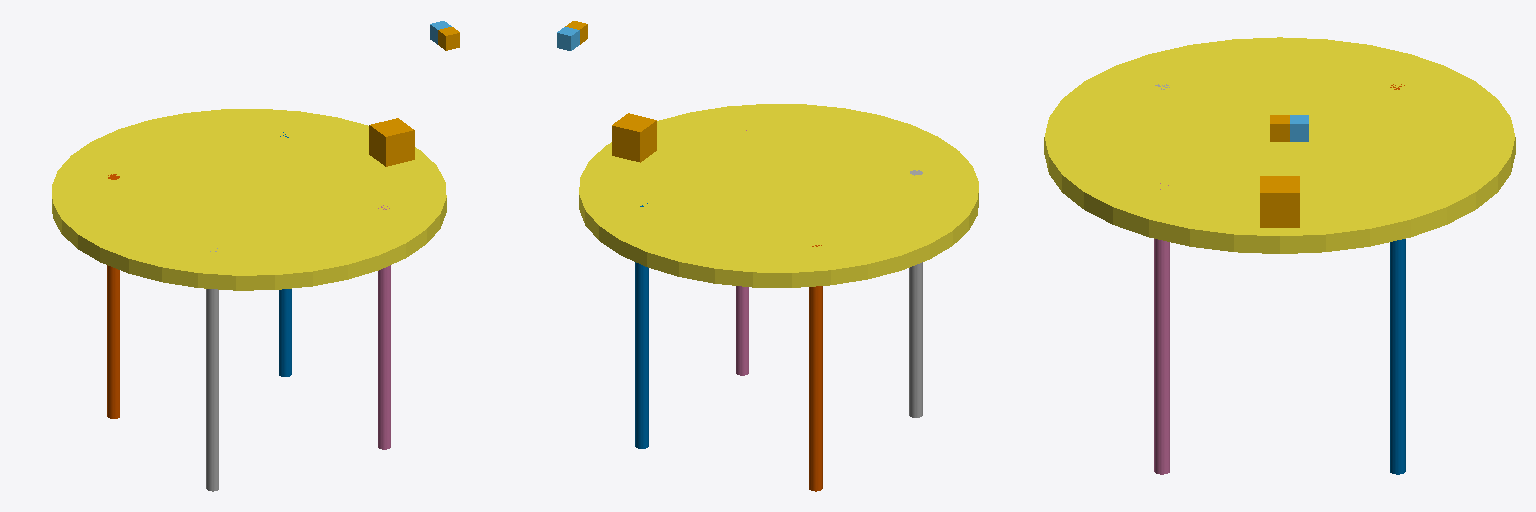
--- What the picture shows (computed from the rendered views, not written in the file) ---
The picture shows the robot from 3 angles, left to right: view 1: azimuth 30°, elevation 25°; view 2: azimuth 150°, elevation 25°; view 3: azimuth 270°, elevation 25°; orthographic projection.
Model kuka_kr4r600 with 17 links and 16 joints (6 revolute, 10 fixed), rooted at world, posed every joint at zero.
Links seen in each view (by area): view 1: table_top_link, leg4_link, leg3_link, leg2_link, box_link, leg1_link; view 2: table_top_link, leg2_link, leg1_link, leg4_link, box_link, leg3_link; view 3: table_top_link, leg3_link, leg1_link, box_link, camera_link.
Boxes of the visible links, x1,y1,x2,y2 form: table_top_link: (52,109,446,290); leg4_link: (206,248,218,491); leg3_link: (378,205,390,449); leg2_link: (107,174,119,418); box_link: (369,118,414,166); leg1_link: (279,132,291,376); table_top_link: (579,104,978,287); leg2_link: (809,245,822,491); leg1_link: (635,203,648,448); leg4_link: (909,170,922,417); box_link: (612,113,656,162); leg3_link: (736,130,748,375); table_top_link: (1044,37,1515,253); leg3_link: (1154,183,1169,474); leg1_link: (1390,239,1405,474); box_link: (1260,176,1299,227); camera_link: (1270,115,1289,141).
Bounding box of the posed robot: 1.32 × 1.2 × 1.18 m (x, y, z).
Meshes: 7 distinct files referenced, 0 mesh visuals loaded (none loaded); not drawn: 7 (reference not matched to a file when rendering).

The robot description file, URDF, robot "kuka_kr4r600":
<?xml version="1.0" ?>
<!-- =================================================================================== -->
<!-- |    This document was autogenerated by xacro from [local-path]/exparm_ws/src/kuka_lra_noetic/kuka_description/urdf/training_table.urdf.xacro | -->
<!-- |    EDITING THIS FILE BY HAND IS NOT RECOMMENDED                                 | -->
<!-- =================================================================================== -->
<!-- <robot name="kuka_kr4r600" xmlns:xacro="http://wiki.ros.org/xacro"> -->
<robot name="kuka_kr4r600" xmlns:body="http://playerstage.sourceforge.net/gazebo/xmlschema/#body" xmlns:controller="http://playerstage.sourceforge.net/gazebo/xmlschema/#controller" xmlns:gazebo="http://playerstage.sourceforge.net/gazebo/xmlschema/#gz" xmlns:geom="http://playerstage.sourceforge.net/gazebo/xmlschema/#geom" xmlns:interface="http://playerstage.sourceforge.net/gazebo/xmlschema/#interface" xmlns:joint="http://playerstage.sourceforge.net/gazebo/xmlschema/#joint" xmlns:model="http://playerstage.sourceforge.net/gazebo/xmlschema/#model" xmlns:physics="http://playerstage.sourceforge.net/gazebo/xmlschema/#physics" xmlns:renderable="http://playerstage.sourceforge.net/gazebo/xmlschema/#renderable" xmlns:rendering="http://playerstage.sourceforge.net/gazebo/xmlschema/#rendering" xmlns:sensor="http://playerstage.sourceforge.net/gazebo/xmlschema/#sensor" xmlns:xi="http://www.w3.org/2001/XInclude">
    <!-- <xacro:arg name="transmission_hw_interface" default="hardware_interface/PositionJointInterface"/> -->
    <!-- <xacro:include filename="$(find kuka_description)/urdf/common.gazebo.xacro" /> -->
    <!-- colours based on RAL values given in "FAQ - Colours of robot and robot
       controller", version "KUKA.Tifs | 2010-01-21 |YM| DefaultColorsRobotAndController.doc",
       downloaded 2015-07-18 from
       http://www.kuka.be/main/cservice/faqs/hardware/DefaultColorsRobotAndController.pdf

       all RAL colours converted using http://www.visual-graphics.de/en/customer-care/ral-colours
  -->
    <!-- Size of square 'camera' box -->
    <!-- <xacro:include filename="$(find kuka_description)/urdf/kuka.transmission.xacro" /> -->
    <!-- <xacro:include filename="$(find kuka_description)/urdf/kuka.gazebo.xacro" /> -->
    <!-- legal values:
     - hardware_interface/PositionJointInterface
     - hardware_interface/VelocityJointInterface
     - hardware_interface/EffortJointInterface
-->
    <!-- <xacro:macro name="kuka_kr4r600" params="prefix"> -->
    <link name="base_link">
        <inertial>
            <mass value="1" />
            <inertia ixx="1.0" ixy="0.0" ixz="0.0" iyy="1.0" iyz="0.0" izz="1.0" />
            <origin xyz="0 0 0" rpy="0 0 0" />
        </inertial>
        <visual>
            <origin rpy="0 0 0" xyz="0 0 0" />
            <geometry>
                <mesh filename="package://kuka_kr4_support/meshes/kr4r600/visual/base_link.stl" />
            </geometry>
            <material name="">
                <color rgba="0.5058823529411764 0.47058823529411764 0.38823529411764707 1.0" />
            </material>
        </visual>
        <collision>
            <origin rpy="0 0 0" xyz="0 0 0" />
            <geometry>
                <mesh filename="package://kuka_kr4_support/meshes/kr4r600/collision/base_link.stl" />
            </geometry>
        </collision>
        <inertial>
            <origin rpy="0 0 0" xyz="0 0 0" />
            <mass value="7" />
            <inertia ixx="30160574464.000000" ixy="268355824.000000" ixz="396794944.000000" iyy="49449443328.00000" iyz="74363816.000000" izz="47570612224.000000" />
        </inertial>
    </link>
    <link name="link_1">
        <inertial>
            <mass value="1" />
            <inertia ixx="1.0" ixy="0.0" ixz="0.0" iyy="1.0" iyz="0.0" izz="1.0" />
            <origin xyz="0 0 0" rpy="0 0 0" />
        </inertial>
        <visual>
            <origin rpy="0 0 0" xyz="0 0 0" />
            <geometry>
                <mesh filename="package://kuka_kr4_support/meshes/kr4r600/visual/link_1.stl" />
            </geometry>
            <material name="">
                <color rgba="0.9450980392156862 0.9254901960784314 1.0 1.0" />
            </material>
        </visual>
        <collision>
            <origin rpy="0 0 0" xyz="0 0 0" />
            <geometry>
                <mesh filename="package://kuka_kr4_support/meshes/kr4r600/collision/link_1.stl" />
            </geometry>
        </collision>
        <inertial>
            <origin rpy="0 0 0" xyz="0 0 0" />
            <mass value="5" />
            <inertia ixx="29069639680.000000" ixy="16955148.000000" ixz="-75115704.000000" iyy="18764271616.000000" iyz="180538688.000000" izz="20780234752.000000" />
        </inertial>
    </link>
    <link name="link_2">
        <inertial>
            <mass value="1" />
            <inertia ixx="1.0" ixy="0.0" ixz="0.0" iyy="1.0" iyz="0.0" izz="1.0" />
            <origin xyz="0 0 0" rpy="0 0 0" />
        </inertial>
        <visual>
            <origin rpy="0 0 0" xyz="0 0 0" />
            <geometry>
                <mesh filename="package://kuka_kr4_support/meshes/kr4r600/visual/link_2.stl" />
            </geometry>
            <material name="">
                <color rgba="0.9450980392156862 0.9254901960784314 1.0 1.0" />
            </material>
        </visual>
        <collision>
            <origin rpy="0 0 0" xyz="0 0 0" />
            <geometry>
                <mesh filename="package://kuka_kr4_support/meshes/kr4r600/collision/link_2.stl" />
            </geometry>
        </collision>
        <inertial>
            <origin rpy="0 0 0" xyz="0 0 0" />
            <mass value="6" />
            <inertia ixx="17074209792.000000" ixy="568627456.000000" ixz="-1012415616.000000" iyy="54759739392.000000" iyz="2741744.250000" izz="62598627328.000000" />
        </inertial>
    </link>
    <link name="link_3">
        <inertial>
            <mass value="1" />
            <inertia ixx="1.0" ixy="0.0" ixz="0.0" iyy="1.0" iyz="0.0" izz="1.0" />
            <origin xyz="0 0 0" rpy="0 0 0" />
        </inertial>
        <visual>
            <origin rpy="0 0 0" xyz="0 0 0" />
            <geometry>
                <mesh filename="package://kuka_kr4_support/meshes/kr4r600/visual/link_3.stl" />
            </geometry>
            <material name="">
                <color rgba="0.9450980392156862 0.9254901960784314 1.0 1.0" />
            </material>
        </visual>
        <collision>
            <origin rpy="0 0 0" xyz="0 0 0" />
            <geometry>
                <mesh filename="package://kuka_kr4_support/meshes/kr4r600/collision/link_3.stl" />
            </geometry>
        </collision>
        <inertial>
            <origin rpy="0 0 0" xyz="0 0 0" />
            <mass value="4" />
            <inertia ixx="3538344960.000000" ixy="91869584.000000" ixz="-1087638528.000000" iyy="10409157632.000000" iyz="13806910.000000" izz="10024766464.000000" />
        </inertial>
    </link>
    <link name="link_4">
        <inertial>
            <mass value="1" />
            <inertia ixx="1.0" ixy="0.0" ixz="0.0" iyy="1.0" iyz="0.0" izz="1.0" />
            <origin xyz="0 0 0" rpy="0 0 0" />
        </inertial>
        <visual>
            <origin rpy="0 0 0" xyz="0 0 0" />
            <geometry>
                <mesh filename="package://kuka_kr4_support/meshes/kr4r600/visual/link_4.stl" />
            </geometry>
            <material name="">
                <color rgba="0.9450980392156862 0.9254901960784314 1.0 1.0" />
            </material>
        </visual>
        <collision>
            <origin rpy="0 0 0" xyz="0 0 0" />
            <geometry>
                <mesh filename="package://kuka_kr4_support/meshes/kr4r600/collision/link_4.stl" />
            </geometry>
        </collision>
        <inertial>
            <origin rpy="0 0 0" xyz="0 0 0" />
            <mass value="3" />
            <inertia ixx="2312632576.000000" ixy="-262303920.000000" ixz="26849928.000000" iyy="2560956160.000000" iyz="-46212612.000000" izz="3653170944.000000" />
        </inertial>
    </link>
    <link name="link_5">
        <inertial>
            <mass value="1" />
            <inertia ixx="1.0" ixy="0.0" ixz="0.0" iyy="1.0" iyz="0.0" izz="1.0" />
            <origin xyz="0 0 0" rpy="0 0 0" />
        </inertial>
        <visual>
            <origin rpy="0 0 0" xyz="0 0 0" />
            <geometry>
                <mesh filename="package://kuka_kr4_support/meshes/kr4r600/visual/link_5.stl" />
            </geometry>
            <material name="">
                <color rgba="0.9450980392156862 0.9254901960784314 1.0 1.0" />
            </material>
        </visual>
        <collision>
            <origin rpy="0 0 0" xyz="0 0 0" />
            <geometry>
                <mesh filename="package://kuka_kr4_support/meshes/kr4r600/collision/link_5.stl" />
            </geometry>
        </collision>
        <inertial>
            <origin rpy="0 0 0" xyz="0 0 0" />
            <mass value="1.5" />
            <inertia ixx="474922912.000000" ixy="-5465426.000000" ixz="-131389.812500" iyy=" 642145344.000000" iyz="98441.296875" izz="684424448.000000" />
        </inertial>
    </link>
    <link name="link_6">
        <inertial>
            <mass value="1" />
            <inertia ixx="1.0" ixy="0.0" ixz="0.0" iyy="1.0" iyz="0.0" izz="1.0" />
            <origin xyz="0 0 0" rpy="0 0 0" />
        </inertial>
        <visual>
            <origin rpy="0 0 0" xyz="0 0 0" />
            <geometry>
                <mesh filename="package://kuka_kr4_support/meshes/kr4r600/visual/link_6.stl" />
            </geometry>
            <material name="">
                <color rgba="0.5058823529411764 0.47058823529411764 0.38823529411764707 1.0" />
            </material>
        </visual>
        <collision>
            <origin rpy="0 0 0" xyz="0 0 0" />
            <geometry>
                <mesh filename="package://kuka_kr4_support/meshes/kr4r600/collision/link_6.stl" />
            </geometry>
        </collision>
        <inertial>
            <origin rpy="0 0 0" xyz="0 0 0" />
            <mass value="0.5" />
            <inertia ixx="9503564.000000" ixy="-344.500275" ixz="2999.466064" iyy=" 6104710.000000" iyz="2659.174805" izz="6102781.000000" />
        </inertial>
    </link>
    <!-- This frame corresponds to the $FLANGE coordinate system in KUKA KRC controllers. -->
    <link name="tool0" />
    <!-- Camera -->
    <link name="camera_link">
        <collision>
            <origin rpy="0 0 0" xyz="0 0 0" />
            <geometry>
                <box size="0.05 0.05 0.05" />
            </geometry>
        </collision>
        <visual>
            <origin rpy="0 0 0" xyz="0 0 0" />
            <geometry>
                <box size="0.05 0.05 0.05" />
            </geometry>
            <material name="white" />
        </visual>
        <inertial>
            <mass value="1e-5" />
            <origin rpy="0 0 0" xyz="0 0 0" />
            <inertia ixx="1e-6" ixy="0" ixz="0" iyy="1e-6" iyz="0" izz="1e-6" />
        </inertial>
    </link>
    <!-- Hokuyo Laser -->
    <link name="hokuyo_link">
        <collision>
            <origin rpy="0 0 0" xyz="0 0 0" />
            <geometry>
                <box size="0.05 0.05 0.05" />
            </geometry>
        </collision>
        <visual>
            <origin rpy="0 0 0" xyz="0 0 0" />
            <geometry>
                <box size="0.05 0.05 0.05" />
            </geometry>
        </visual>
        <inertial>
            <mass value="1e-5" />
            <origin rpy="0 0 0" xyz="0 0 0" />
            <inertia ixx="1e-6" ixy="0" ixz="0" iyy="1e-6" iyz="0" izz="1e-6" />
        </inertial>
    </link>
    <joint name="joint_a1" type="revolute">
        <origin rpy="0 0 0" xyz="0 0 0.33" />
        <parent link="base_link" />
        <child link="link_1" />
        <axis xyz="0 0 -1" />
        <limit effort="100" lower="-2.9670597283903604" upper="2.9670597283903604" velocity="9.250245035569947" />
    </joint>
    <joint name="joint_a2" type="revolute">
        <origin rpy="0 0 0" xyz="0 0 0" />
        <parent link="link_1" />
        <child link="link_2" />
        <axis xyz="0 1 0" />
        <limit effort="100" lower="-3.4033920413889427" upper="0.6981317007977318" velocity="9.232791743050003" />
    </joint>
    <joint name="joint_a3" type="revolute">
        <origin rpy="0 0 0" xyz="0.290 0 0" />
        <parent link="link_2" />
        <child link="link_3" />
        <axis xyz="0 1 0" />
        <limit effort="100" lower="-2.007128639793479" upper="2.6179938779914944" velocity="9.389871375729493" />
    </joint>
    <joint name="joint_a4" type="revolute">
        <origin rpy="0 0 0" xyz="0.310 0 0.020" />
        <parent link="link_3" />
        <child link="link_4" />
        <axis xyz="-1 0 0" />
        <limit effort="100" lower="-3.2288591161895095" upper="3.2288591161895095" velocity="10.471975511965978" />
    </joint>
    <joint name="joint_a5" type="revolute">
        <origin rpy="0 0 0" xyz="0 0 0" />
        <parent link="link_4" />
        <child link="link_5" />
        <axis xyz="0 1 0" />
        <limit effort="100" lower="-2.0943951023931953" upper="2.0943951023931953" velocity="10.471975511965978" />
    </joint>
    <joint name="joint_a6" type="revolute">
        <origin rpy="0 0 0" xyz="0.075 0 0" />
        <parent link="link_5" />
        <child link="link_6" />
        <axis xyz="-1 0 0" />
        <limit effort="100" lower="-6.1086523819801535" upper="6.1086523819801535" velocity="13.962634015954636" />
    </joint>
    <joint name="joint_a6-tool0" type="fixed">
        <parent link="link_6" />
        <child link="tool0" />
        <origin rpy="0 1.5707963267948966 0" xyz="0 0 0" />
    </joint>
    <joint name="camera_joint" type="fixed">
        <origin rpy="0 -1.5708 0" xyz="0 0 0.025" />
        <parent link="tool0" />
        <child link="camera_link" />
    </joint>
    <joint name="hokuyo_joint" type="fixed">
        <origin rpy="0 0 0" xyz="0 0.05 0" />
        <parent link="camera_link" />
        <child link="hokuyo_link" />
    </joint>
    <!--   <xacro:kuka_arm_transmission prefix="${prefix}" hw_interface="${transmission_hw_interface}" />
  <xacro:kuka_arm_gazebo prefix="${prefix}" />

 -->
    <!-- ROS base_link to KUKA $ROBROOT coordinate system transform -->
    <!--     <link name="${prefix}base" />
    <joint name="${prefix}base_link-base" type="fixed">
      <origin xyz="0 0 0" rpy="0 0 0"/>
      <parent link="${prefix}base_link"/>
      <child link="${prefix}base"/>
    </joint> -->
    <!-- transmission list -->
    <transmission name="tran1">
        <type>transmission_interface/SimpleTransmission</type>
        <joint name="joint_a1">
            <hardwareInterface>hardware_interface/EffortJointInterface</hardwareInterface>
        </joint>
        <actuator name="motor1">
            <mechanicalReduction>1</mechanicalReduction>
            <hardwareInterface>hardware_interface/EffortJointInterface</hardwareInterface>
        </actuator>
    </transmission>
    <transmission name="tran2">
        <type>transmission_interface/SimpleTransmission</type>
        <joint name="joint_a2">
            <hardwareInterface>hardware_interface/EffortJointInterface</hardwareInterface>
        </joint>
        <actuator name="motor2">
            <mechanicalReduction>1</mechanicalReduction>
            <hardwareInterface>hardware_interface/EffortJointInterface</hardwareInterface>
        </actuator>
    </transmission>
    <transmission name="tran3">
        <type>transmission_interface/SimpleTransmission</type>
        <joint name="joint_a3">
            <hardwareInterface>hardware_interface/EffortJointInterface</hardwareInterface>
        </joint>
        <actuator name="motor3">
            <mechanicalReduction>1</mechanicalReduction>
            <hardwareInterface>hardware_interface/EffortJointInterface</hardwareInterface>
        </actuator>
    </transmission>
    <transmission name="tran4">
        <type>transmission_interface/SimpleTransmission</type>
        <joint name="joint_a4">
            <hardwareInterface>hardware_interface/EffortJointInterface</hardwareInterface>
        </joint>
        <actuator name="motor4">
            <mechanicalReduction>1</mechanicalReduction>
            <hardwareInterface>hardware_interface/EffortJointInterface</hardwareInterface>
        </actuator>
    </transmission>
    <transmission name="tran5">
        <type>transmission_interface/SimpleTransmission</type>
        <joint name="joint_a5">
            <hardwareInterface>hardware_interface/EffortJointInterface</hardwareInterface>
        </joint>
        <actuator name="motor5">
            <mechanicalReduction>1</mechanicalReduction>
            <hardwareInterface>hardware_interface/EffortJointInterface</hardwareInterface>
        </actuator>
    </transmission>
    <transmission name="tran6">
        <type>transmission_interface/SimpleTransmission</type>
        <joint name="joint_a6">
            <hardwareInterface>hardware_interface/EffortJointInterface</hardwareInterface>
        </joint>
        <actuator name="motor6">
            <mechanicalReduction>1</mechanicalReduction>
            <hardwareInterface>hardware_interface/EffortJointInterface</hardwareInterface>
        </actuator>
    </transmission>
    <!-- end of transmission list -->
    <!-- Gazebo-specific link properties -->
    <gazebo reference="base_link">
        <material>Gazebo/White</material>
        <turnGravityOff>true</turnGravityOff>
        <plugin name="gazebo_ros_control">
            <robotNamespace>/</robotNamespace>
        </plugin>
    </gazebo>
    <gazebo reference="link_1">
        <material>Gazebo/White</material>
        <turnGravityOff>true</turnGravityOff>
    </gazebo>
    <gazebo reference="link_2">
        <material>Gazebo/White</material>
        <turnGravityOff>true</turnGravityOff>
    </gazebo>
    <gazebo reference="link_3">
        <material>Gazebo/White</material>
        <turnGravityOff>true</turnGravityOff>
    </gazebo>
    <gazebo reference="link_4">
        <material>Gazebo/White</material>
        <turnGravityOff>true</turnGravityOff>
    </gazebo>
    <gazebo reference="link_5">
        <material>Gazebo/White</material>
        <turnGravityOff>true</turnGravityOff>
    </gazebo>
    <gazebo reference="link_6">
        <material>Gazebo/Black</material>
        <turnGravityOff>true</turnGravityOff>
    </gazebo>
    <!-- ros_control plugin -->
    <gazebo>
        <plugin filename="libgazebo_ros_control.so" name="gazebo_ros_control">
            <robotNamespace>/kuka_kr4r600</robotNamespace>
            <robotSimType>gazebo_ros_control/DefaultRobotHWSim</robotSimType>
        </plugin>
    </gazebo>
    <!-- camera -->
    <gazebo reference="camera_link">
        <sensor name="camera1" type="camera">
            <update_rate>30.0</update_rate>
            <camera name="head">
                <horizontal_fov>1.3962634</horizontal_fov>
                <image>
                    <width>800</width>
                    <height>800</height>
                    <format>R8G8B8</format>
                </image>
                <clip>
                    <near>0.02</near>
                    <far>300</far>
                </clip>
                <noise>
                    <type>gaussian</type>
                    <mean>0.0</mean>
                    <stddev>0.007</stddev>
                </noise>
            </camera>
            <plugin filename="libgazebo_ros_camera.so" name="camera_controller">
                <alwaysOn>true</alwaysOn>
                <updateRate>0.0</updateRate>
                <cameraName>kuka/camera1</cameraName>
                <imageTopicName>image_raw</imageTopicName>
                <cameraInfoTopicName>camera_info</cameraInfoTopicName>
                <frameName>camera_link</frameName>
                <hackBaseline>0.07</hackBaseline>
                <distortionK1>0.0</distortionK1>
                <distortionK2>0.0</distortionK2>
                <distortionK3>0.0</distortionK3>
                <distortionT1>0.0</distortionT1>
                <distortionT2>0.0</distortionT2>
            </plugin>
        </sensor>
    </gazebo>
    <!-- hokuyo -->
    <gazebo reference="hokuyo_link">
        <sensor name="head_hokuyo_sensor" type="gpu_ray">
            <pose>0 0 0 0 0 0</pose>
            <visualize>false</visualize>
            <update_rate>40</update_rate>
            <ray>
                <scan>
                    <horizontal>
                        <samples>720</samples>
                        <resolution>1</resolution>
                        <min_angle>-1.570796</min_angle>
                        <max_angle>1.570796</max_angle>
                    </horizontal>
                </scan>
                <range>
                    <min>0.10</min>
                    <max>30.0</max>
                    <resolution>0.01</resolution>
                </range>
                <noise>
                    <type>gaussian</type>
                    <!-- Noise parameters based on published spec for Hokuyo laser
               achieving "+-30mm" accuracy at range < 10m.  A mean of 0.0m and
               stddev of 0.01m will put 99.7% of samples within 0.03m of the true
               reading. -->
                    <mean>0.0</mean>
                    <stddev>0.01</stddev>
                </noise>
            </ray>
            <plugin filename="libgazebo_ros_gpu_laser.so" name="gazebo_ros_head_hokuyo_controller">
                <topicName>/kuka/laser/scan</topicName>
                <frameName>hokuyo_link</frameName>
            </plugin>
        </sensor>
    </gazebo>
    <link name="world" />
    <!-- tabletop height is .55+.01+.025=.585 -->
    <link name="table_top_link">
        <inertial>
            <mass value="1.0" />
            <origin xyz="0.0 0.0 0.775" rpy="0 0 0" />
            <inertia ixx="1" ixy="0" ixz="0" iyy="1" iyz="0" izz="1" />
        </inertial>
        <visual>
            <origin xyz="0.0 0.0 0.775" />
            <geometry>
                <!-- <box size="${table_width} ${table_depth} ${table_top_thickness}" /> -->
                <cylinder length="0.05" radius="0.6" />
            </geometry>
        </visual>
        <collision>
            <origin xyz="0.0 0.0 0.775" />
            <geometry>
                <cylinder length="0.05" radius="0.6" />
                <!-- <box size="${table_width} ${table_depth} ${table_top_thickness}" /> -->
            </geometry>
        </collision>
    </link>
    <gazebo reference="table_top_link">
        <material>Gazebo/LightWood</material>
        <mu1>50.0</mu1>
        <mu2>50.0</mu2>
        <kp>1000000.0</kp>
        <kd>1.0</kd>
    </gazebo>
    <joint name="leg1_joint" type="fixed">
        <parent link="table_top_link" />
        <origin rpy="0 0 0" xyz="0.3 0.3 0.8" />
        <child link="leg1_link" />
    </joint>
    <link name="leg1_link">
        <inertial>
            <mass value="1.0" />
            <origin xyz="0 0 -0.4" rpy="0 0 0" />
            <inertia ixx="0.1" ixy="0" ixz="0" iyy="0.1" iyz="0" izz="0.01" />
        </inertial>
        <visual>
            <origin rpy="0 0 0" xyz="0.0 0.0 -0.4" />
            <geometry>
                <cylinder length="0.8" radius="0.02" />
            </geometry>
        </visual>
        <collision>
            <origin rpy="0.0 0.0 0.0" xyz="0.0 0.0 -0.4" />
            <geometry>
                <cylinder length="0.8" radius="0.02" />
            </geometry>
        </collision>
    </link>
    <gazebo reference="leg1_link">
        <material>Gazebo/White</material>
        <mu1>1000.0</mu1>
        <mu2>1000.0</mu2>
        <kp>10000000.0</kp>
        <kd>1.0</kd>
        <selfCollide>true</selfCollide>
    </gazebo>
    <joint name="leg2_joint" type="fixed">
        <parent link="table_top_link" />
        <origin rpy="0 0 0" xyz="-0.3 0.3 0.8" />
        <child link="leg2_link" />
    </joint>
    <link name="leg2_link">
        <inertial>
            <mass value="1.0" />
            <origin xyz="0 0 -0.4" rpy="0 0 0" />
            <inertia ixx="0.1" ixy="0" ixz="0" iyy="0.1" iyz="0" izz="0.01" />
        </inertial>
        <visual>
            <origin rpy="0 0 0" xyz="0.0 0.0 -0.4" />
            <geometry>
                <cylinder length="0.8" radius="0.02" />
            </geometry>
        </visual>
        <collision>
            <origin rpy="0.0 0.0 0.0" xyz="0.0 0.0 -0.4" />
            <geometry>
                <cylinder length="0.8" radius="0.02" />
            </geometry>
        </collision>
    </link>
    <gazebo reference="leg2_link">
        <material>Gazebo/White</material>
        <mu1>1000.0</mu1>
        <mu2>1000.0</mu2>
        <kp>10000000.0</kp>
        <kd>1.0</kd>
        <selfCollide>true</selfCollide>
    </gazebo>
    <joint name="leg3_joint" type="fixed">
        <parent link="table_top_link" />
        <origin rpy="0 0 0" xyz="0.3 -0.3 0.8" />
        <child link="leg3_link" />
    </joint>
    <link name="leg3_link">
        <inertial>
            <mass value="1.0" />
            <origin xyz="0 0 -0.4" rpy="0 0 0" />
            <inertia ixx="0.1" ixy="0" ixz="0" iyy="0.1" iyz="0" izz="0.01" />
        </inertial>
        <visual>
            <origin rpy="0 0 0" xyz="0.0 0.0 -0.4" />
            <geometry>
                <cylinder length="0.8" radius="0.02" />
            </geometry>
        </visual>
        <collision>
            <origin rpy="0.0 0.0 0.0" xyz="0.0 0.0 -0.4" />
            <geometry>
                <cylinder length="0.8" radius="0.02" />
            </geometry>
        </collision>
    </link>
    <gazebo reference="leg3_link">
        <material>Gazebo/White</material>
        <mu1>1000.0</mu1>
        <mu2>1000.0</mu2>
        <kp>10000000.0</kp>
        <kd>1.0</kd>
        <selfCollide>true</selfCollide>
    </gazebo>
    <joint name="leg4_joint" type="fixed">
        <parent link="table_top_link" />
        <origin rpy="0 0 0" xyz="-0.3 -0.3 0.8" />
        <child link="leg4_link" />
    </joint>
    <link name="leg4_link">
        <inertial>
            <mass value="1.0" />
            <origin xyz="0 0 -0.4" rpy="0 0 0" />
            <inertia ixx="0.1" ixy="0" ixz="0" iyy="0.1" iyz="0" izz="0.01" />
        </inertial>
        <visual>
            <origin rpy="0 0 0" xyz="0.0 0.0 -0.4" />
            <geometry>
                <cylinder length="0.8" radius="0.02" />
            </geometry>
        </visual>
        <collision>
            <origin rpy="0.0 0.0 0.0" xyz="0.0 0.0 -0.4" />
            <geometry>
                <cylinder length="0.8" radius="0.02" />
            </geometry>
        </collision>
    </link>
    <gazebo reference="leg4_link">
        <material>Gazebo/White</material>
        <mu1>1000.0</mu1>
        <mu2>1000.0</mu2>
        <kp>10000000.0</kp>
        <kd>1.0</kd>
        <selfCollide>true</selfCollide>
    </gazebo>
    <gazebo>
        <canonicalBody>table_top_link</canonicalBody>
    </gazebo>
    <!-- attach the table to the world-->
    <joint name="world_joint" type="fixed">
        <parent link="world" />
        <child link="base_link" />
        <origin rpy="0.0 0.0 0.0" xyz="0.0 0.0 0.8" />
    </joint>
    <!-- attach the robot to the table -->
    <joint name="table_joint" type="fixed">
        <parent link="base_link" />
        <child link="table_top_link" />
        <origin rpy="0 0 0" xyz="0 0.0 -0.8" />
    </joint>
    <!--Add box to the table-->
    <link name="box_link">
        <visual>
            <geometry>
                <box size="0.10 0.10 0.10" />
            </geometry>
        </visual>
        <collision>
            <origin rpy="0 0 0" xyz="0 0 0" />
            <geometry>
                <box size="0.10 0.10 0.10" />
            </geometry>
        </collision>
        <inertial>
            <mass value="0.1" />
            <origin xyz="0 0 0" rpy="0 0 0" />
            <inertia ixx="0.03" iyy="0.03" izz="0.03" ixy="0.0" ixz="0.0" iyz="0.0" />
        </inertial>
    </link>
    <gazebo reference="box_link">
        <material>Gazebo/Red</material>
        <mu1>50.0</mu1>
        <mu2>50.0</mu2>
        <kp>1000000.0</kp>
        <kd>1.0</kd>
    </gazebo>
    <!-- attach the box to the table-->
    <joint name="box_joint" type="fixed">
        <parent link="base_link" />
        <child link="box_link" />
        <origin rpy="0.0 0.0 0.0" xyz="0.5 0.0 0.05" />
    </joint>
</robot>
